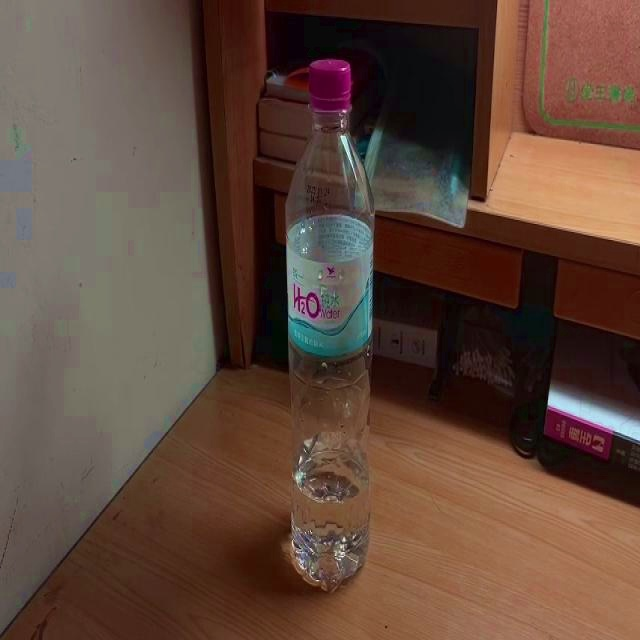Water: (286, 57, 376, 591)
